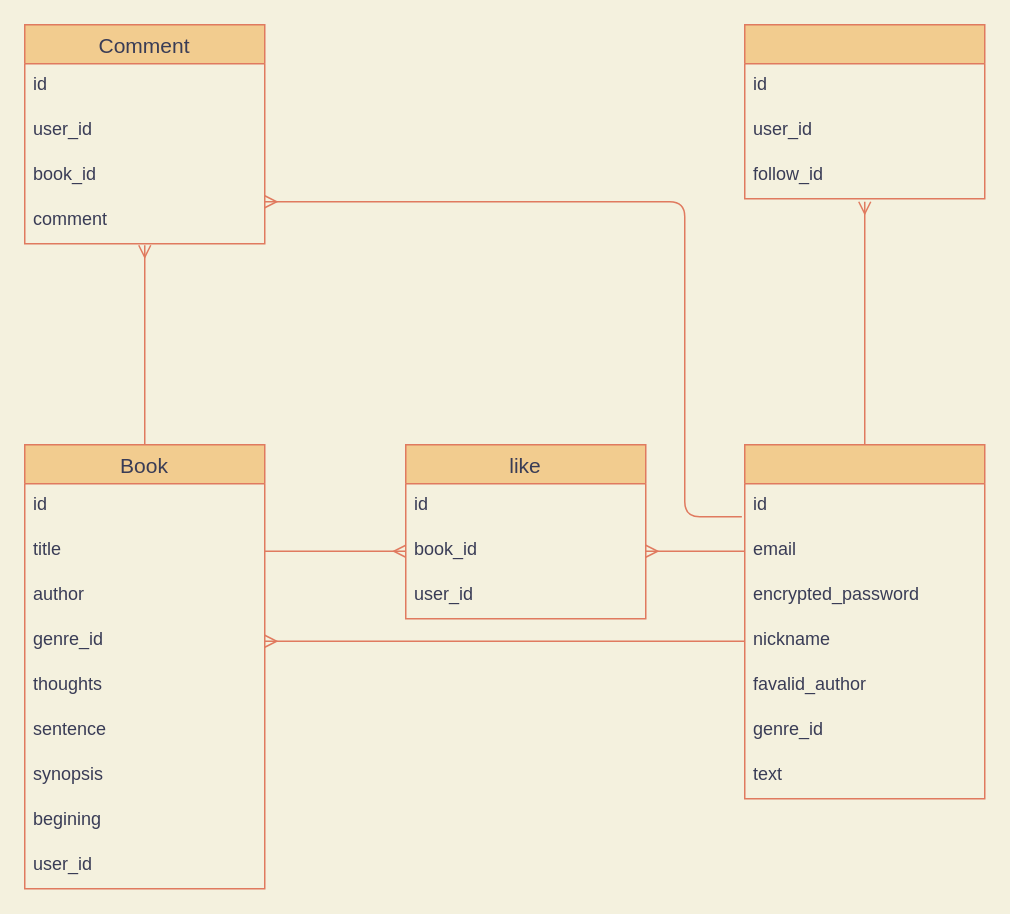
This 1010x914 diagram has some shape labels left out. Each missing label, with the box of its shape:
relationships: (743, 23, 985, 199)
User: (743, 443, 985, 799)
